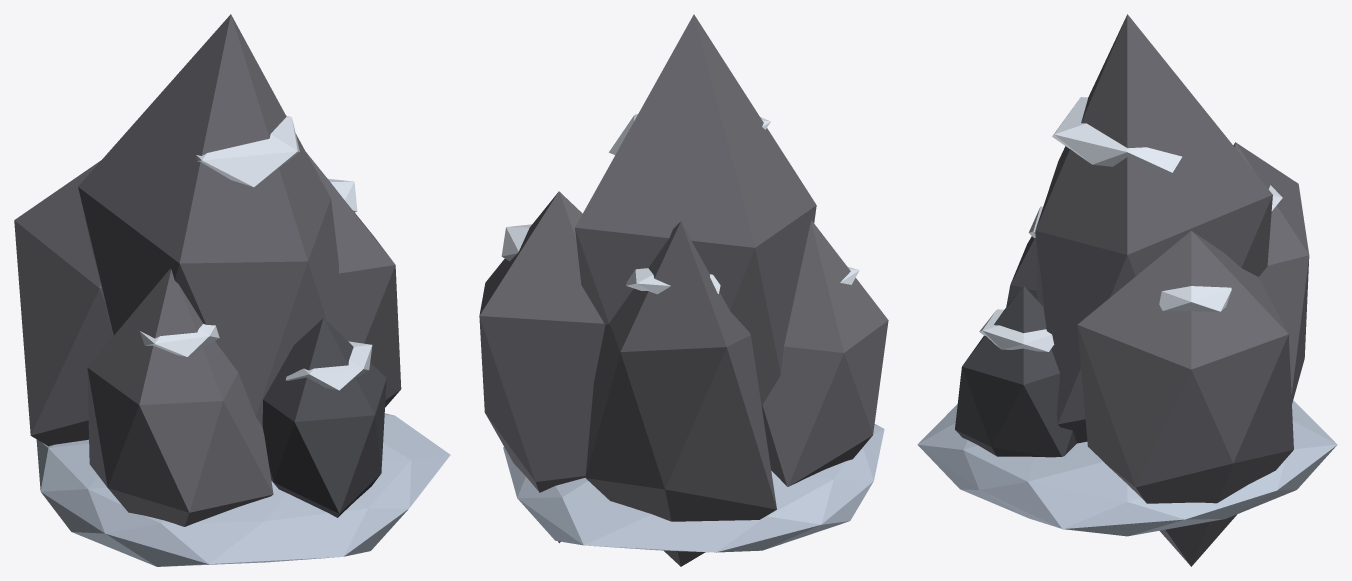
The model's file is crag.glb.
3 views of the same model, side by side, from view 1: azimuth 30°, elevation 25°; view 2: azimuth 150°, elevation 25°; view 3: azimuth 270°, elevation 25° (orthographic). The views are drawn at different scales.
Parts seen in each view (by area): view 1: crag; view 2: crag; view 3: crag.
Part boxes in pixels (x1,y1,x2,y2): crag: (14, 14, 450, 566); crag: (479, 14, 888, 566); crag: (917, 14, 1337, 566).
Bounding box in the file's own units: 9.33 × 13.97 × 10.52.
